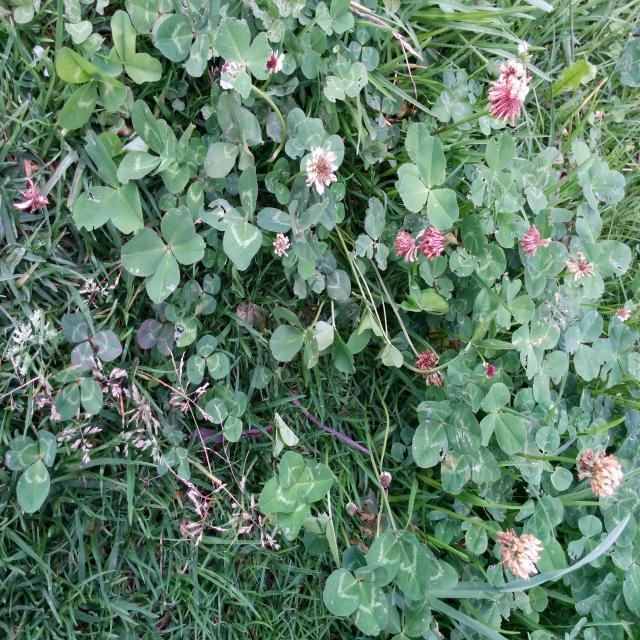Four Leaf Clover: (121, 207, 206, 302), (259, 452, 333, 541)
